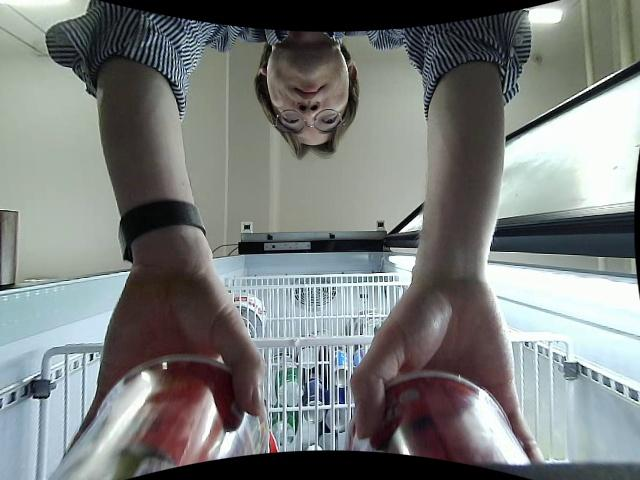00_hand: (351, 284, 549, 466), (63, 285, 268, 419)
02_shinRamen_S: (52, 356, 279, 480), (345, 368, 533, 466)
